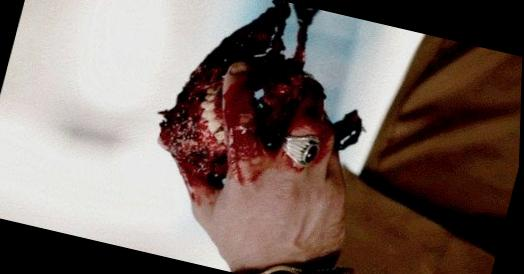Fire: (159, 0, 363, 204)
